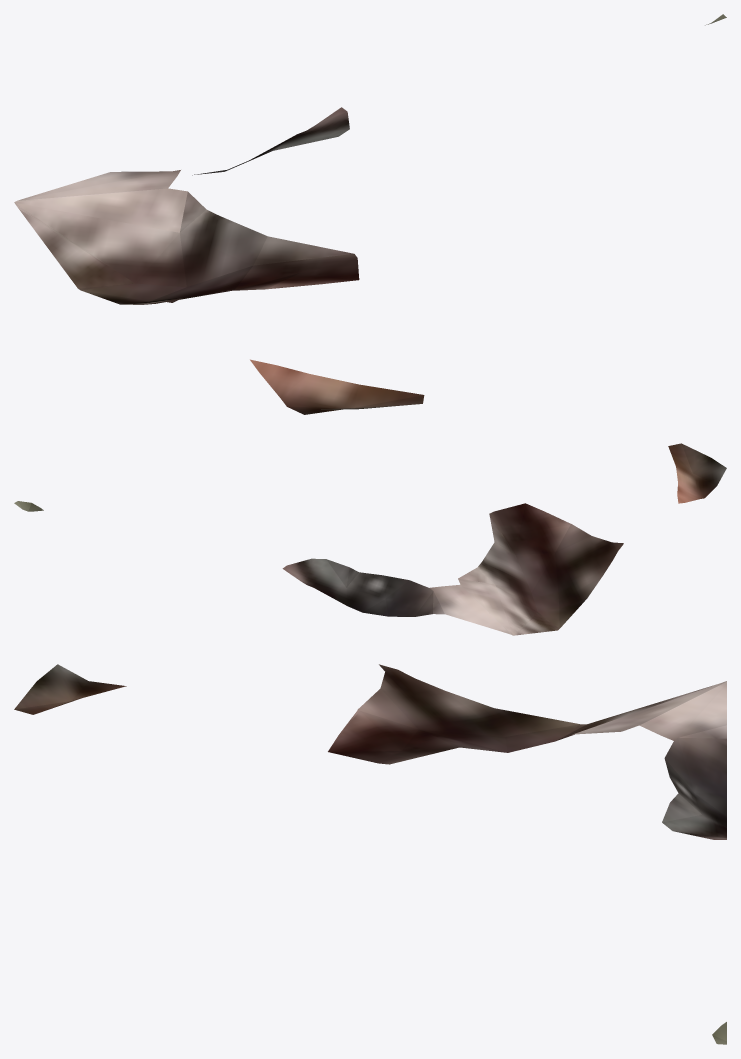
3 renders of one model, top to bottom at view 1: azimuth 30°, elevation 25°; view 2: azimuth 150°, elevation 25°; view 3: azimuth 270°, elevation 25°, orthographic. The views are drawn at different scales.
Size of the model in its own units: 0.5304 by 0.0391 by 0.4202.
1 material, 1 textured.
